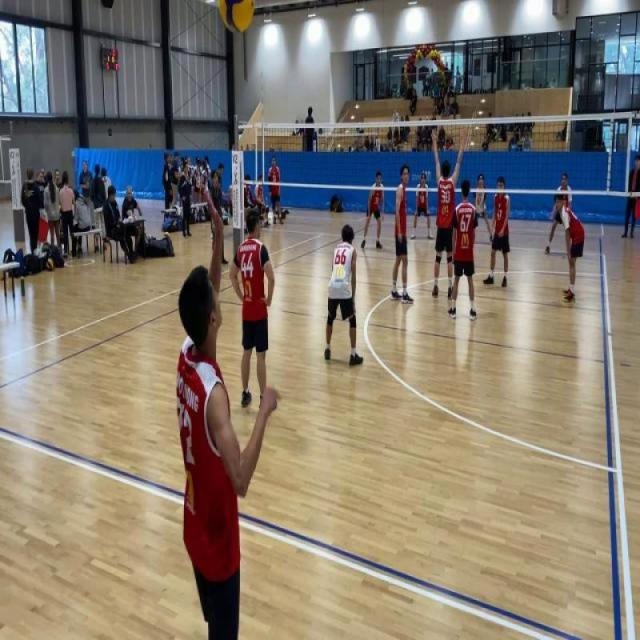volleyball: (217, 0, 256, 37), (46, 256, 54, 272), (163, 231, 170, 238), (58, 203, 62, 214), (148, 234, 153, 241)
